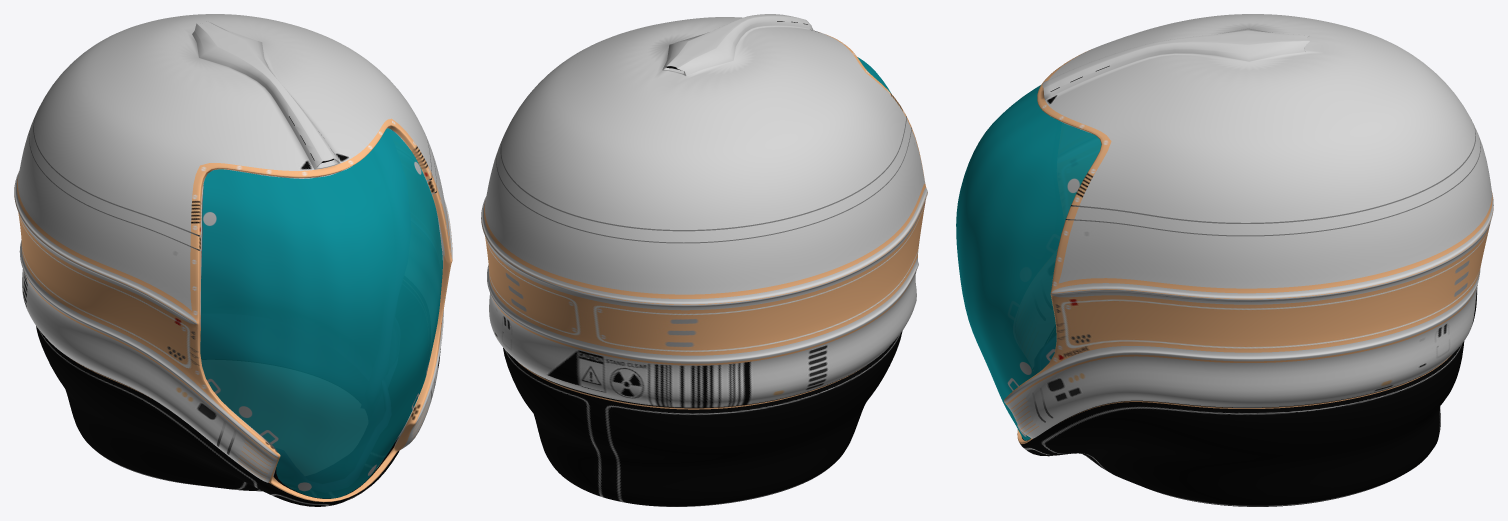
Rendered from free_sci_fi_helmet.glb.
The picture shows the model from 3 angles, left to right: view 1: azimuth 30°, elevation 25°; view 2: azimuth 150°, elevation 25°; view 3: azimuth 270°, elevation 25°; orthographic projection. The views are drawn at different scales.
Parts seen in each view (by area): view 1: Object_9, Object_7, Object_6, Object_3, Object_2, Object_8; view 2: Object_9, Object_3, Object_6, Object_8; view 3: Object_9, Object_3, Object_6, Object_7, Object_8, Object_2.
Part boxes in pixels (x1=…): Object_9: x1=14, y1=14, x2=452, y2=482; Object_7: x1=200, y1=128, x2=442, y2=498; Object_6: x1=14, y1=118, x2=452, y2=502; Object_3: x1=36, y1=326, x2=399, y2=492; Object_2: x1=75, y1=159, x2=398, y2=506; Object_8: x1=29, y1=116, x2=436, y2=454; Object_9: x1=481, y1=14, x2=927, y2=407; Object_3: x1=503, y1=331, x2=902, y2=506; Object_6: x1=481, y1=34, x2=927, y2=409; Object_8: x1=496, y1=21, x2=911, y2=243; Object_9: x1=1004, y1=14, x2=1493, y2=438; Object_3: x1=1033, y1=341, x2=1464, y2=506; Object_6: x1=1004, y1=49, x2=1493, y2=443; Object_7: x1=956, y1=85, x2=1101, y2=440; Object_8: x1=1032, y1=65, x2=1480, y2=422; Object_2: x1=1020, y1=370, x2=1431, y2=465.
Size of the model in its own units: 1.57 by 1.62 by 1.91.
8 materials, 6 textured.
